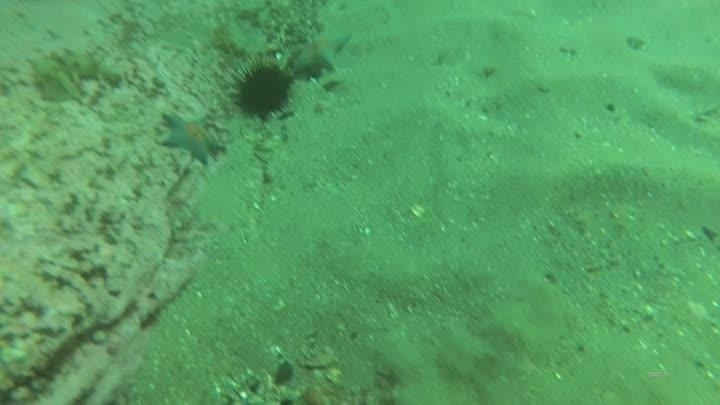echinus: (227, 55, 298, 123)
holothurian: (23, 43, 126, 100)
starfish: (156, 109, 228, 168), (287, 24, 355, 80)
